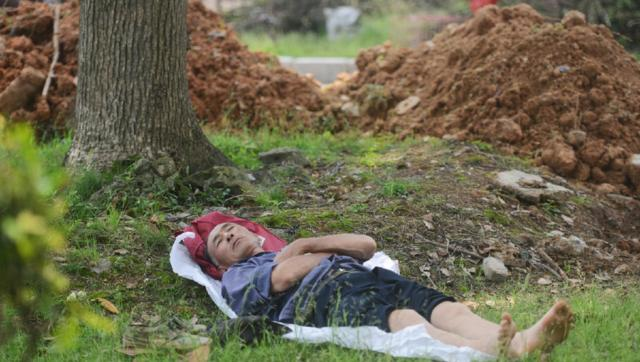fall: (165, 197, 597, 362)
